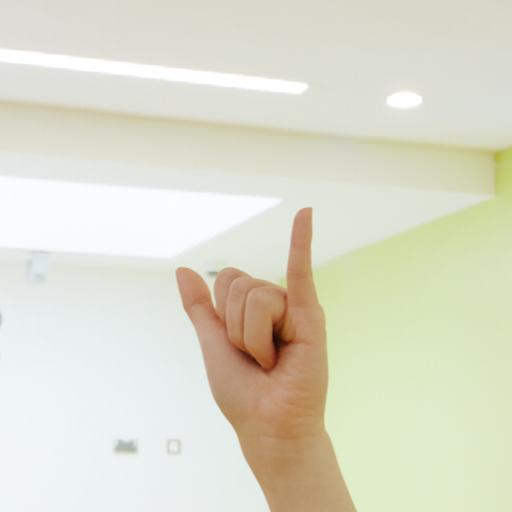Y: (156, 199, 360, 465)
